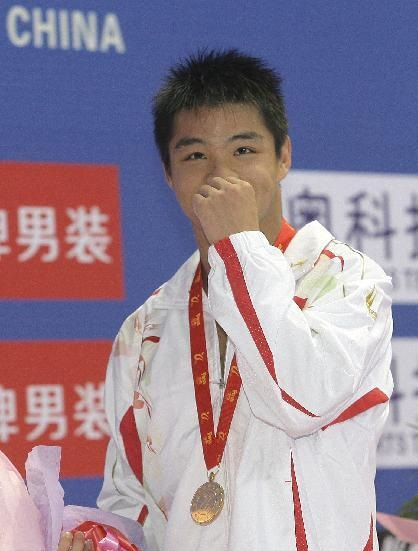face: (167, 94, 277, 240)
